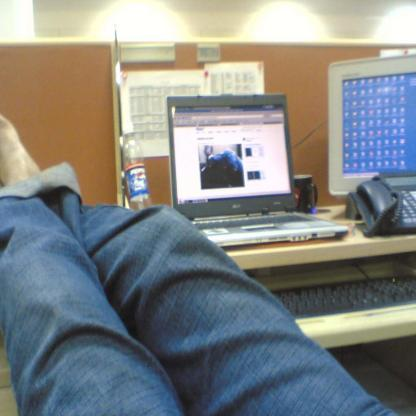board: (166, 91, 349, 232), (123, 120, 150, 210)
